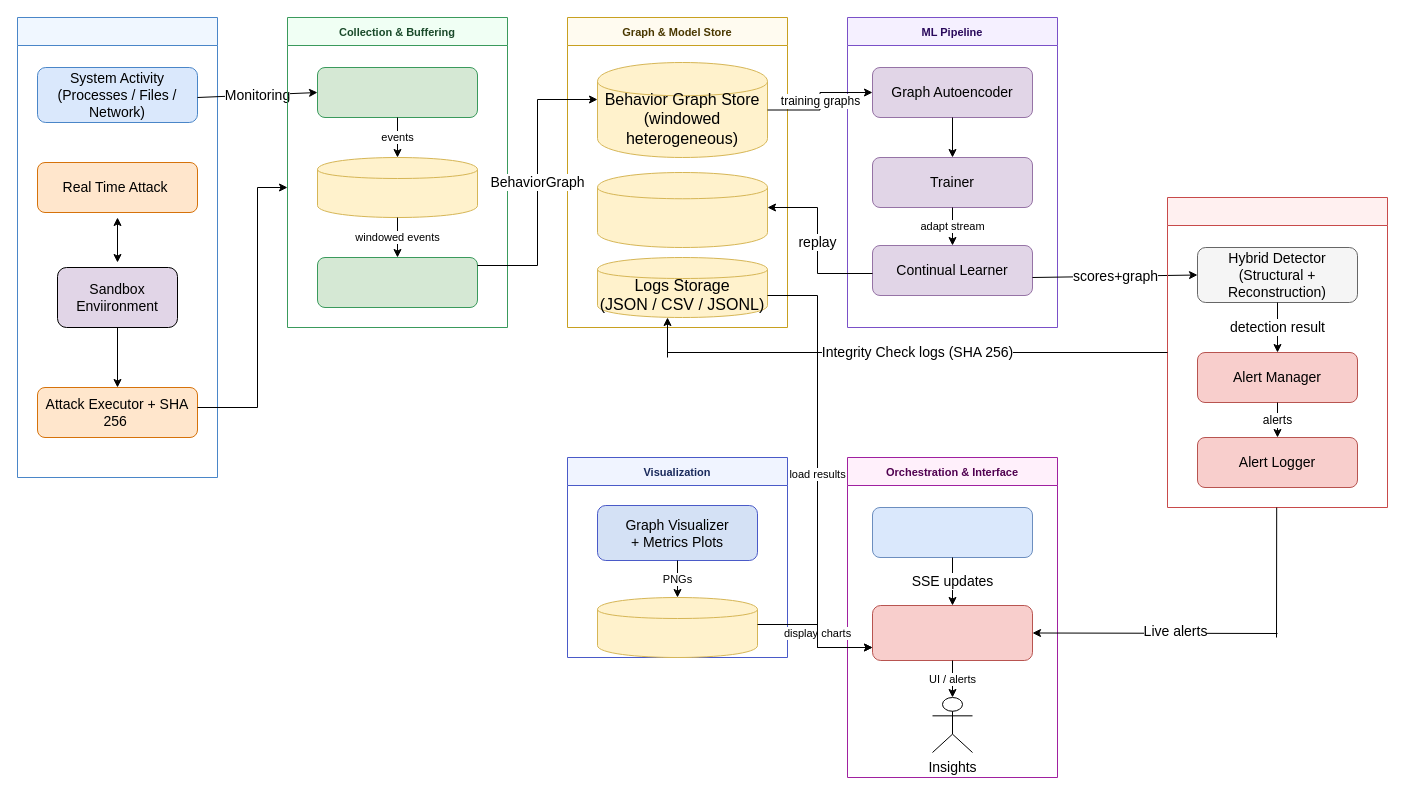
Some shapes in this 1405 by 795 pixel diagram are drawn without their labels. The box of each missing label's shape, as (x1, y1, x2, y2) in pixels:
Data Sources: (16, 16, 218, 478)
Detection & Alerting: (1166, 196, 1388, 508)
Event Stream Buffer (deque / windowed): (316, 156, 478, 218)
Graph Builder: (316, 256, 478, 308)
Pipeline Orchestrator: (872, 506, 1032, 558)
Real-Time Collector: (316, 66, 478, 118)
Replay Memory (bounded graph buffer): (596, 172, 768, 248)
Visualization Outputs (PNG): (596, 596, 758, 658)
Web Dashboard (Flask + SSE): (872, 604, 1032, 660)
